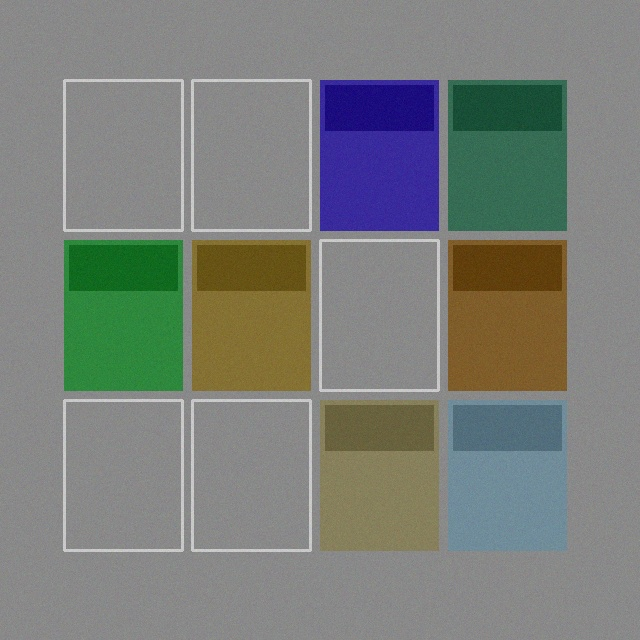space-empty: (64, 80, 182, 230), (192, 80, 310, 230), (320, 240, 438, 390), (64, 400, 182, 550), (192, 400, 310, 550)
space-occupied: (320, 80, 438, 230), (448, 80, 566, 230), (64, 240, 182, 390), (192, 240, 310, 390), (448, 240, 566, 390), (320, 400, 438, 550), (448, 400, 566, 550)
